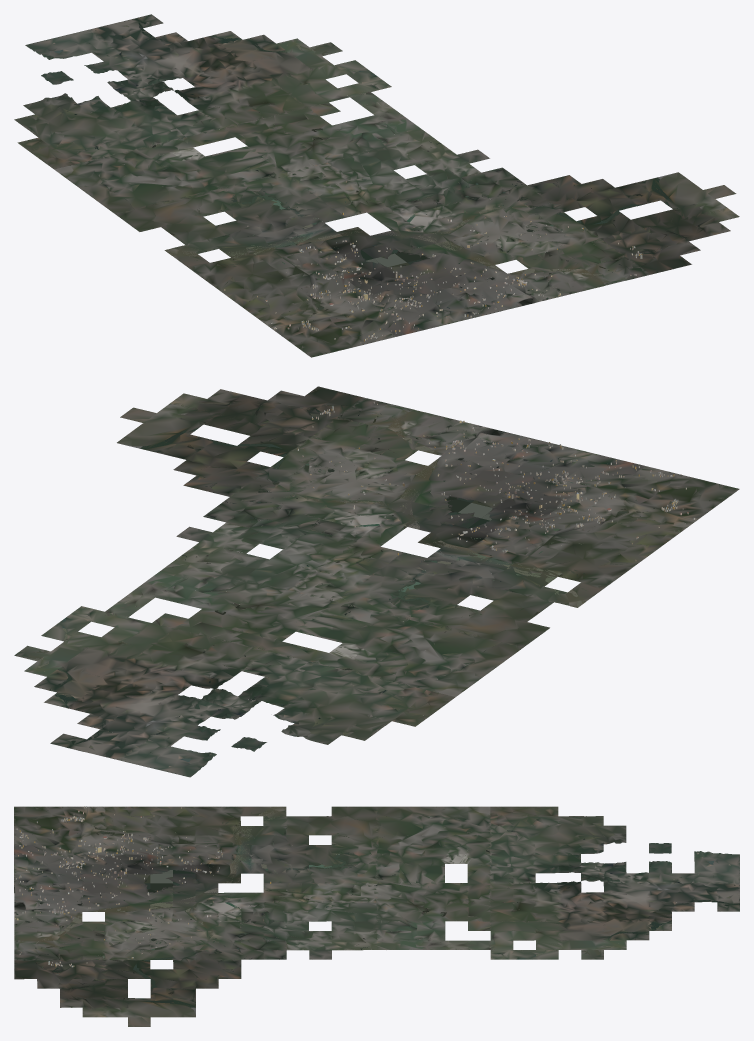
The picture shows the model from 3 angles, top to bottom: view 1: azimuth 30°, elevation 25°; view 2: azimuth 150°, elevation 25°; view 3: azimuth 270°, elevation 25°; orthographic projection. The views are drawn at different scales.
Visible parts, largest first — view 1: ground, water, buildings; view 2: ground, water, buildings; view 3: ground, water, buildings.
Part boxes in pixels (x1,y1,x2,y2): ground: (14,14,739,357); water: (35,18,687,335); buildings: (223,212,642,343); ground: (14,386,739,777); water: (28,390,709,763); buildings: (297,401,696,587); ground: (14,806,739,1026); water: (14,806,739,1014); buildings: (14,806,292,967).
Size of the model in its own units: 32212 by 342 by 44871.
